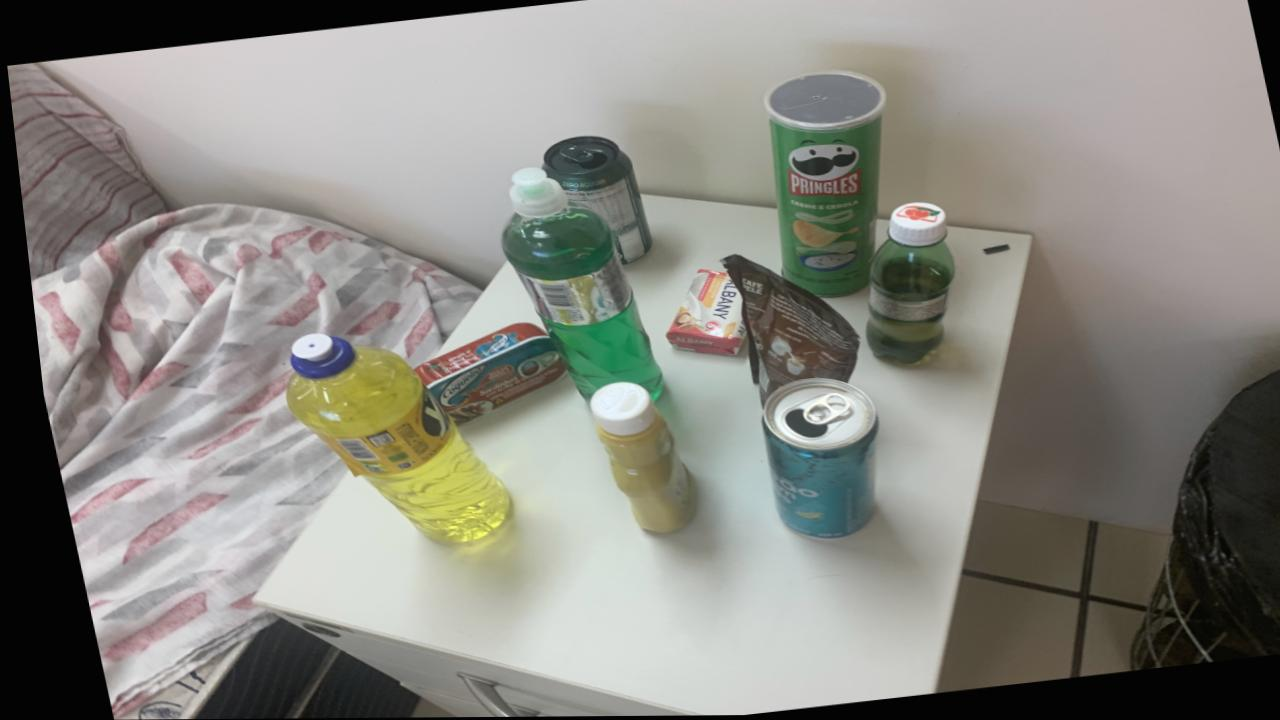Coffee-Pantry_Items: (714, 255, 853, 404)
Detergent-Cleanup_Items: (276, 334, 499, 542), (496, 167, 655, 399)
Guarana-Drinks: (858, 203, 949, 365)
Guarana_Can-Drinks: (539, 136, 647, 263)
Mustard-Pantry_Items: (580, 382, 684, 533)
Pringles-Snacks: (763, 71, 884, 298)
Soap-Cleanup_Items: (658, 269, 739, 356)
Tea-Drinks: (751, 379, 868, 539)
Tuna_Can-Pantry_Items: (405, 322, 558, 425)
